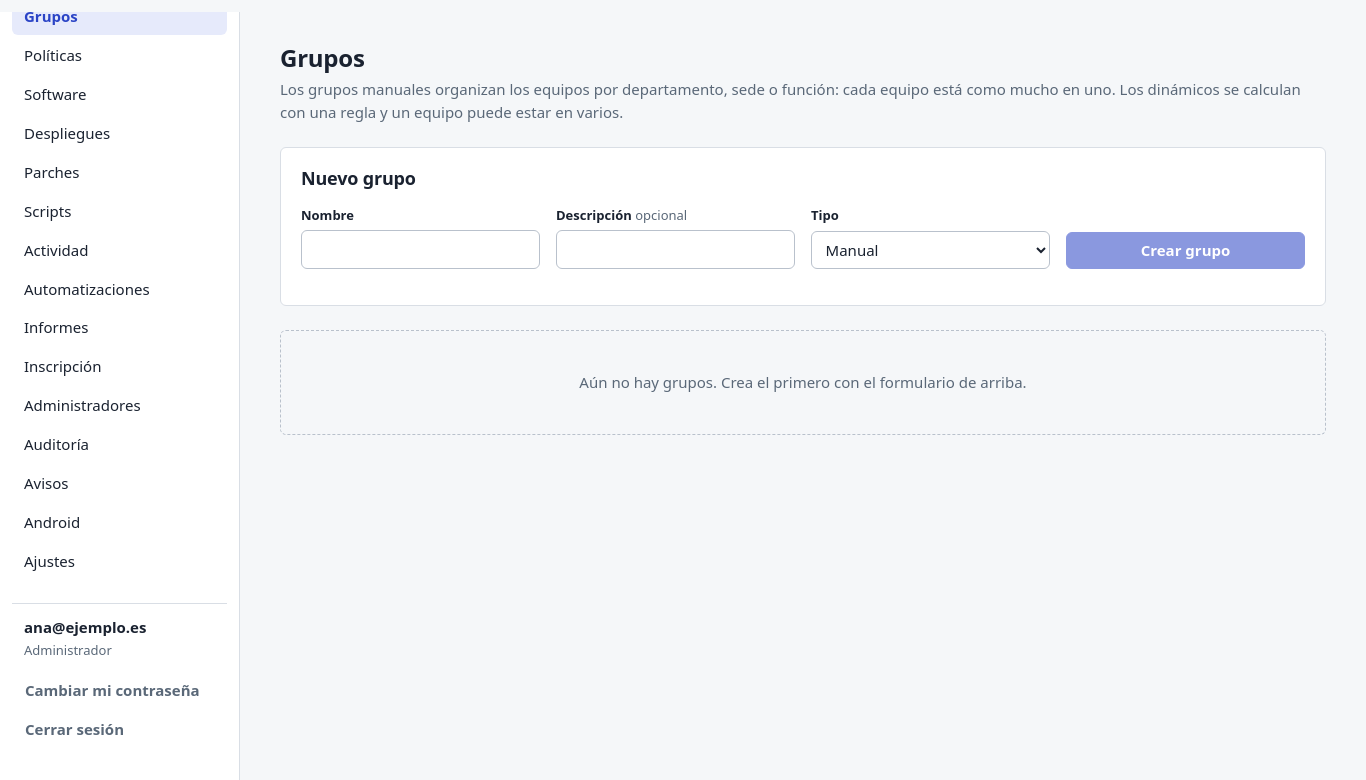
Test: App › muestra correo y rol y permite cerrar sesión
(page scrolled)
Expected: the text "ana@ejemplo.es" is shown, [24,617,146,637]
Expected: the text "Administrador" is shown, [24,641,112,659]
Click the button "Cerrar sesión". click: (120, 729)
box: [24,711,215,748]
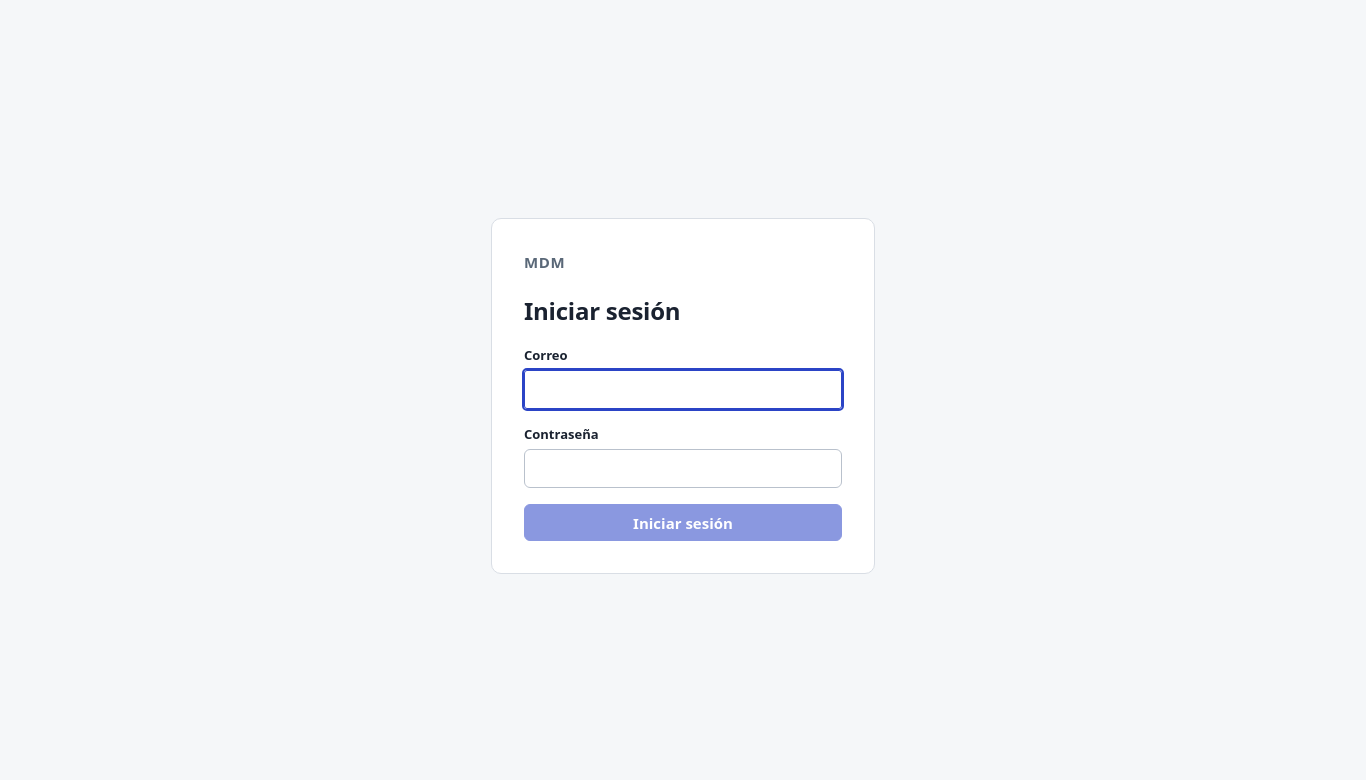
Now the button "Iniciar sesión" is shown, box [524,504,842,542]
